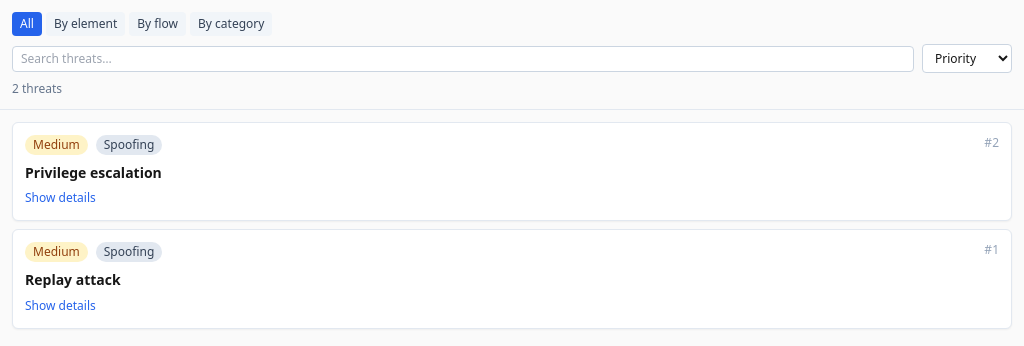
Test: ThreatsPane component › search input filters threats live (debounced)
The image size is (1024, 346).
Type "replay" into the search field with test id "threats-search".
click(463, 58); type("replay")  # box [12, 46, 914, 72]
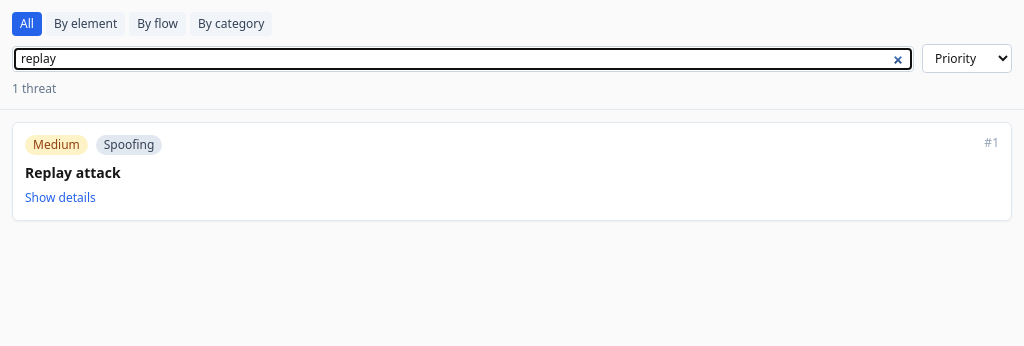
Expected: the element with test id "threat-card-1" is shown, [12, 122, 1012, 221]
Result: the element with test id "threat-card-2" is gone
